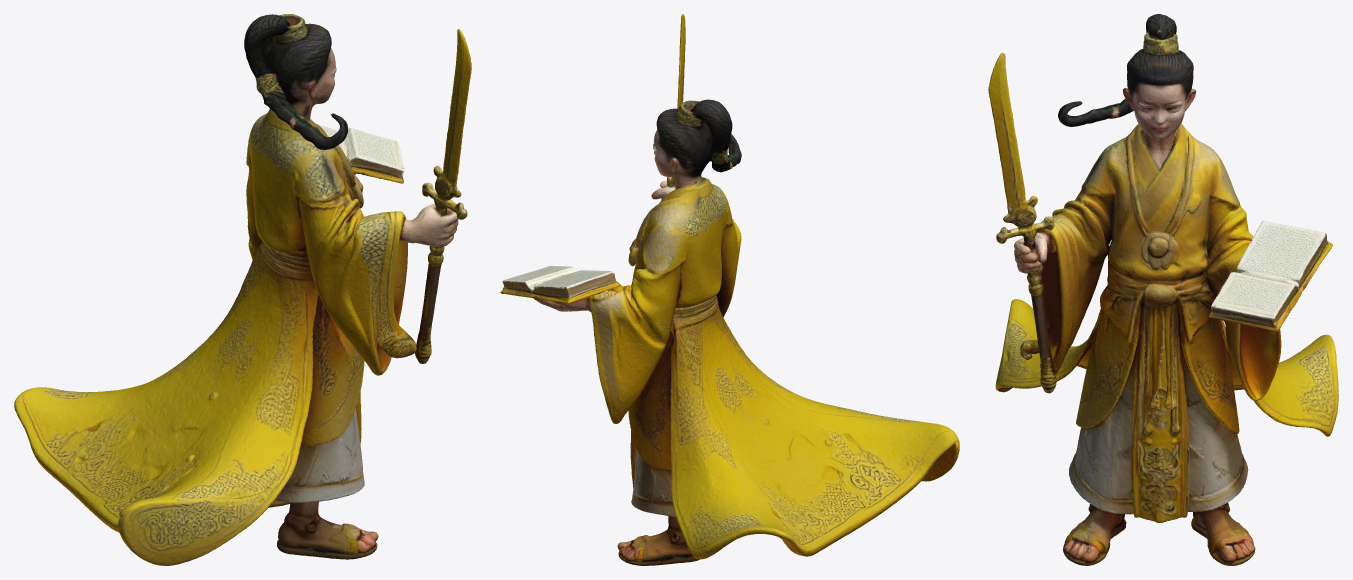
The model's file is modelo55.glb.
3 renders of one model, left to right at view 1: azimuth 30°, elevation 25°; view 2: azimuth 150°, elevation 25°; view 3: azimuth 270°, elevation 25°, orthographic. The views are drawn at different scales.
Parts seen in each view (by area): view 1: tripo_node_0209cca5-5612-4a5b-8938-95d3641cd4d0; view 2: tripo_node_0209cca5-5612-4a5b-8938-95d3641cd4d0; view 3: tripo_node_0209cca5-5612-4a5b-8938-95d3641cd4d0.
Boxes of the visible parts, bbox=[...] form: tripo_node_0209cca5-5612-4a5b-8938-95d3641cd4d0: bbox=[14, 14, 471, 565]; tripo_node_0209cca5-5612-4a5b-8938-95d3641cd4d0: bbox=[500, 14, 959, 565]; tripo_node_0209cca5-5612-4a5b-8938-95d3641cd4d0: bbox=[988, 14, 1338, 565].
Size of the model in its own units: 0.7919 by 1 by 0.593.
Materials: 1 (1 with a texture image).
